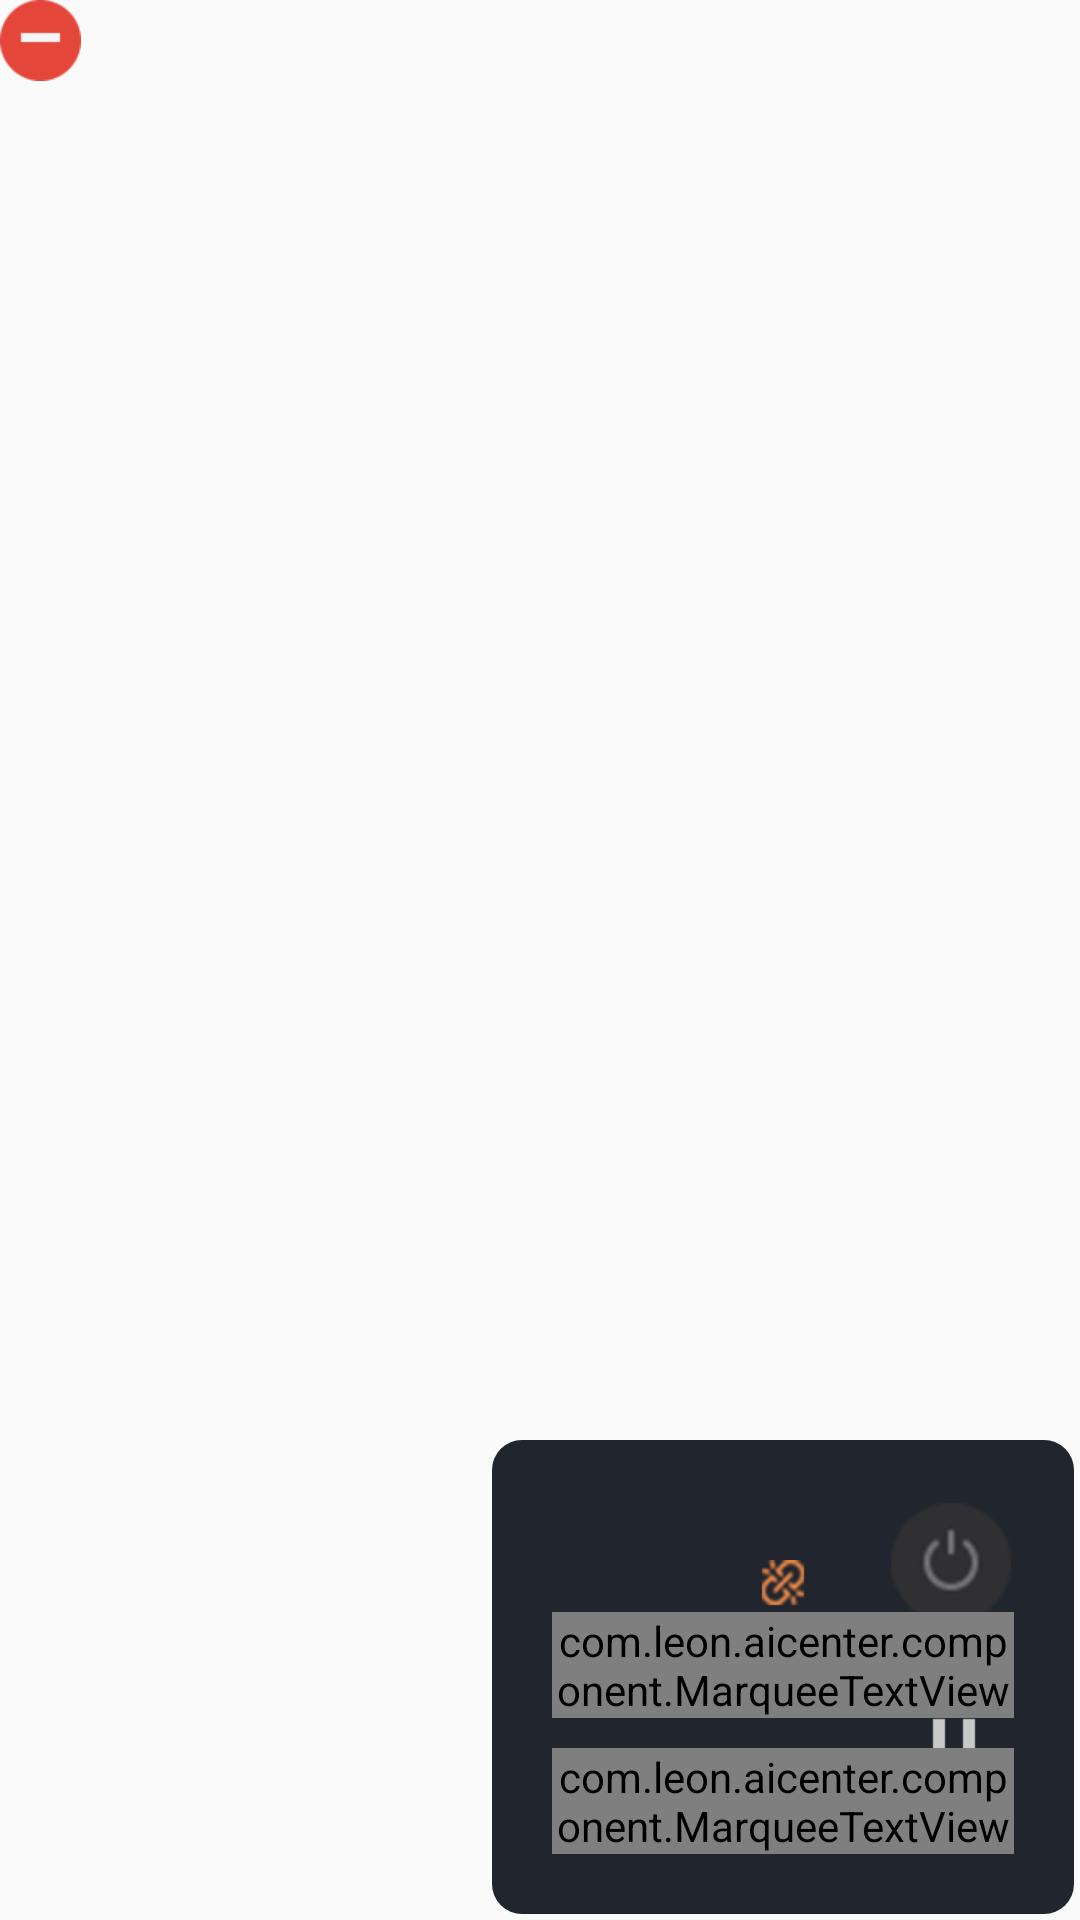

Icon click points for this 1080x1920 phone screenshot, format (x=x, y=y):
删除: (x=40, y=40)
按键: (x=951, y=1564)
离线: (x=783, y=1583)
